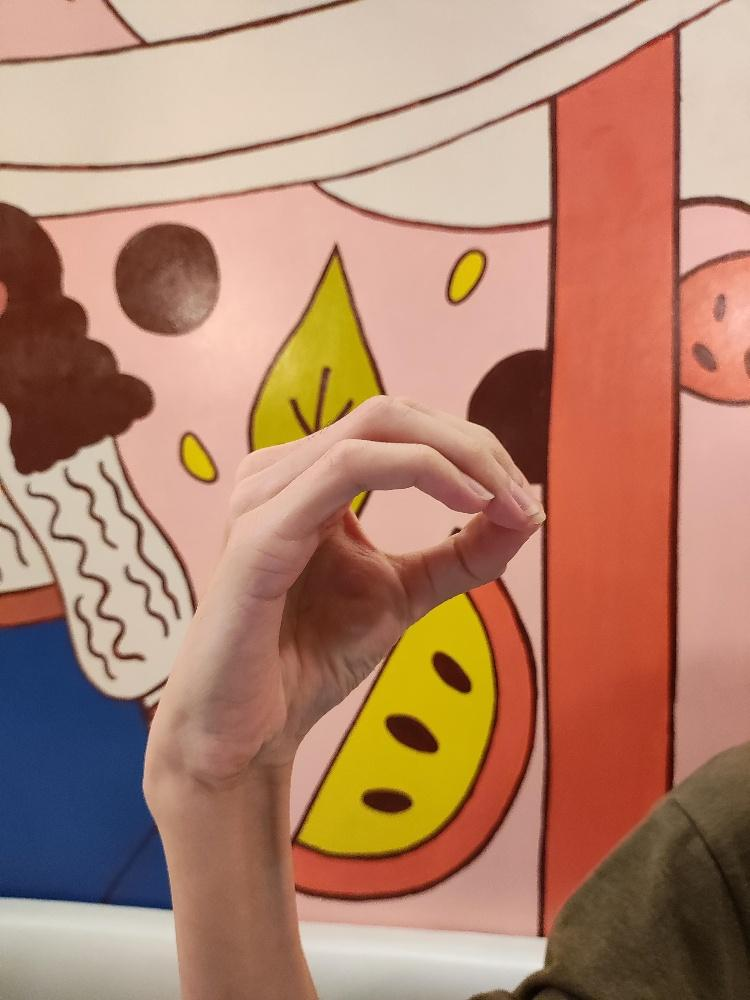o: (138, 388, 549, 781)
